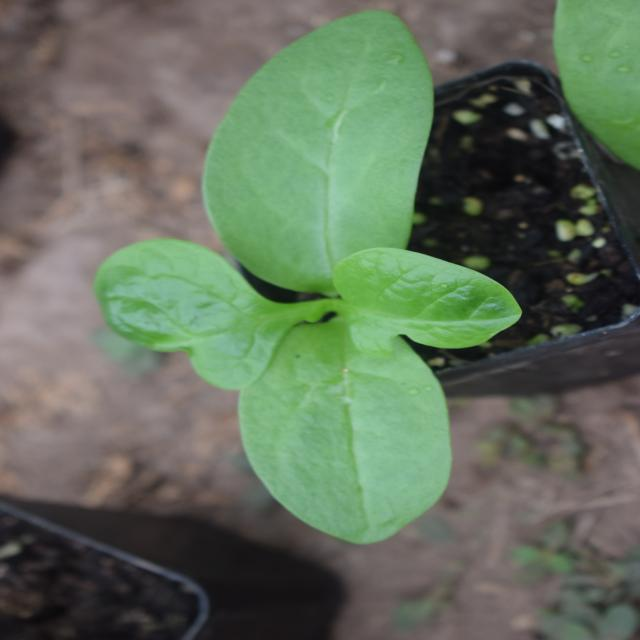Ceylon spinach: (104, 105, 613, 519)
